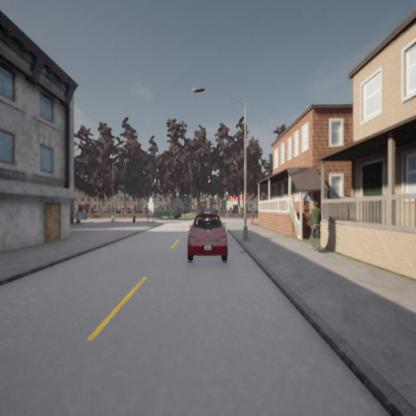person: (308, 199, 322, 253)
vehicle: (186, 214, 228, 263)
